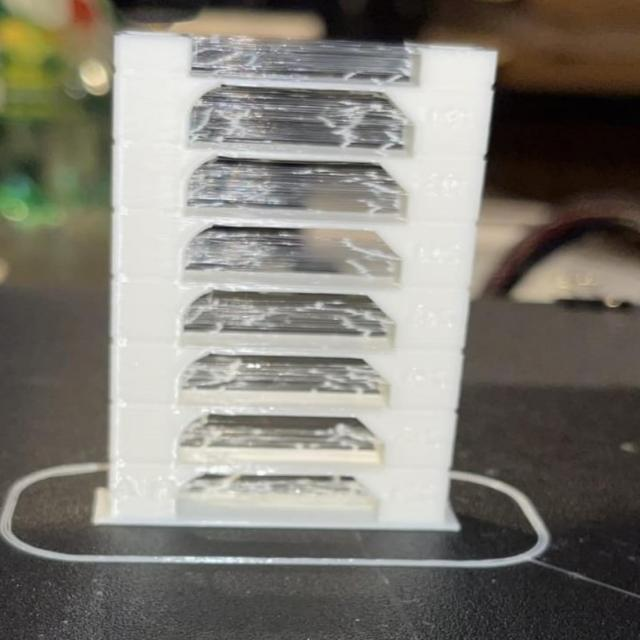Stringing: (179, 89, 412, 153), (176, 225, 410, 284), (180, 161, 415, 216), (173, 406, 383, 462), (184, 32, 419, 80), (178, 346, 391, 398), (178, 293, 396, 338), (172, 469, 379, 516)
